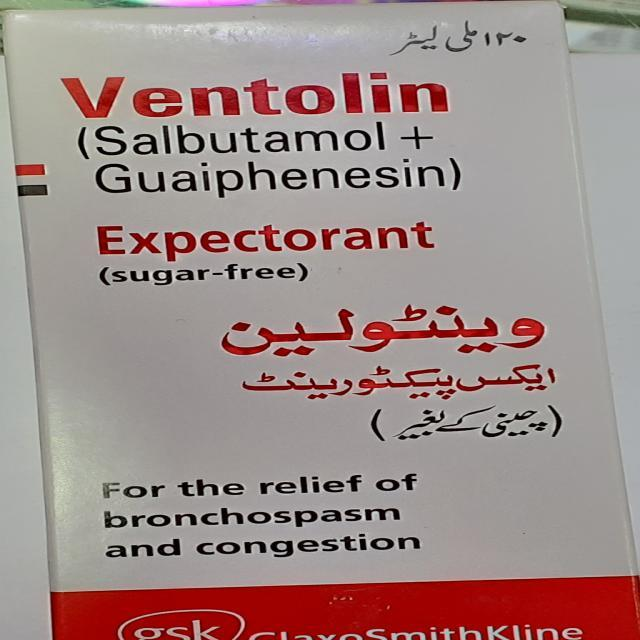drug-name: (61, 70, 452, 118)
